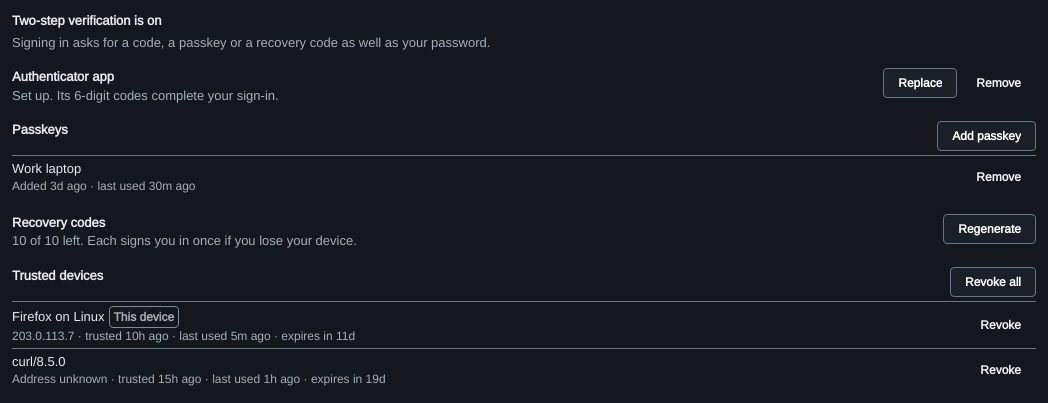
Test: TwoStepSection › lists trusted devices, marks this one, and revokes one with the outcome announced
Expected: the text "Firefox on Linux" is shown, [12, 308, 104, 326]
Expected: the list item that starts with "Firefox on Linux" shows "203.0.113.7 · trusted", [12, 300, 1036, 348]
Click the button with aria-label "Revoke curl/8.5.0 at an unknown address" at coordinates (1001, 370), box [965, 355, 1036, 385]
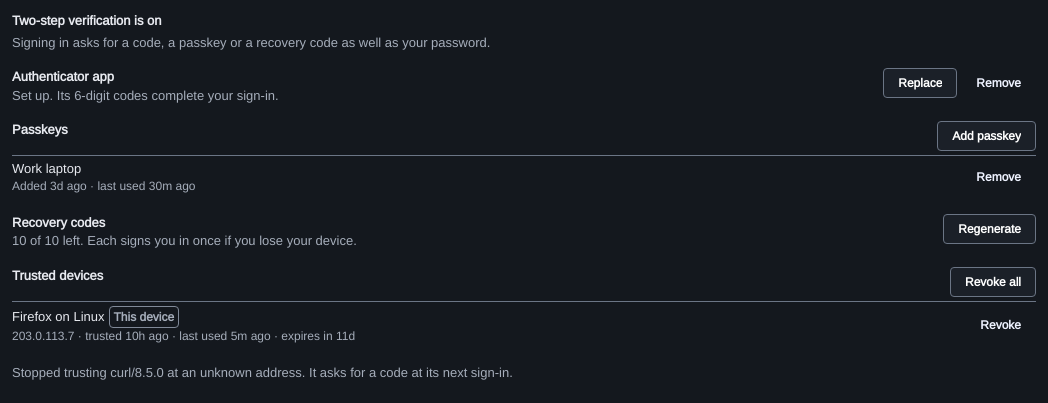
Now the list "Revoke curl" is gone
